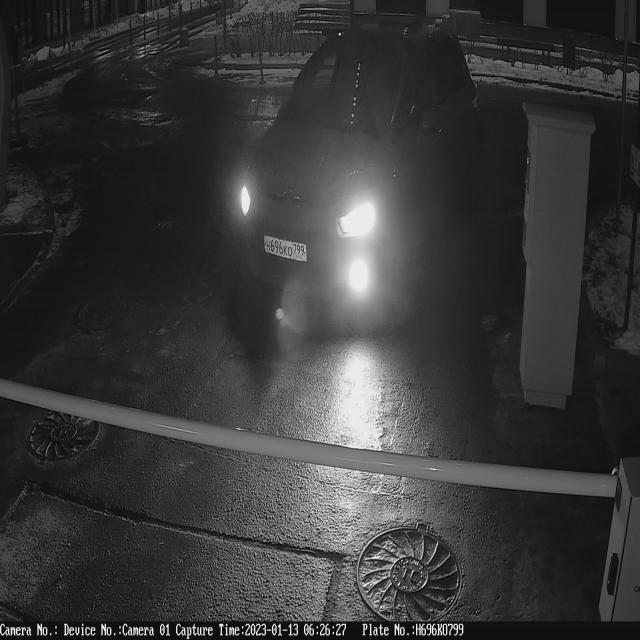car-plate-numbers: (263, 232, 310, 265)
